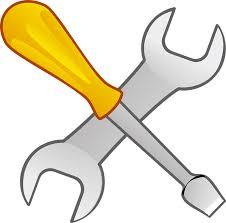wrench: (19, 5, 225, 221)
